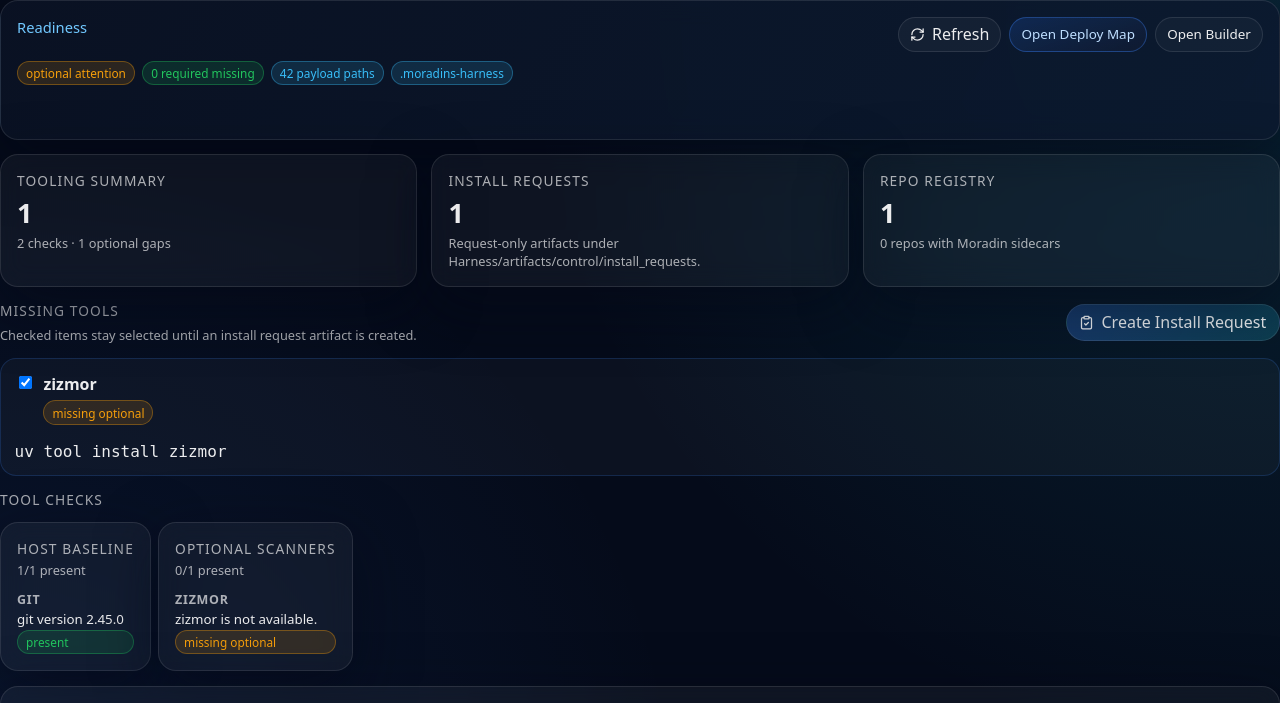
Test: readiness page › shows missing tools and writes request-only install artifacts
Expected: the text "Readiness" is shown, x1=17 y1=17 x2=87 y2=38
Expected: the text "zizmor" below "Missing Tools" is shown, x1=43 y1=373 x2=97 y2=395
Click the button "Create Install Request" at (1173, 322), box x1=1066 y1=304 x2=1279 y2=341
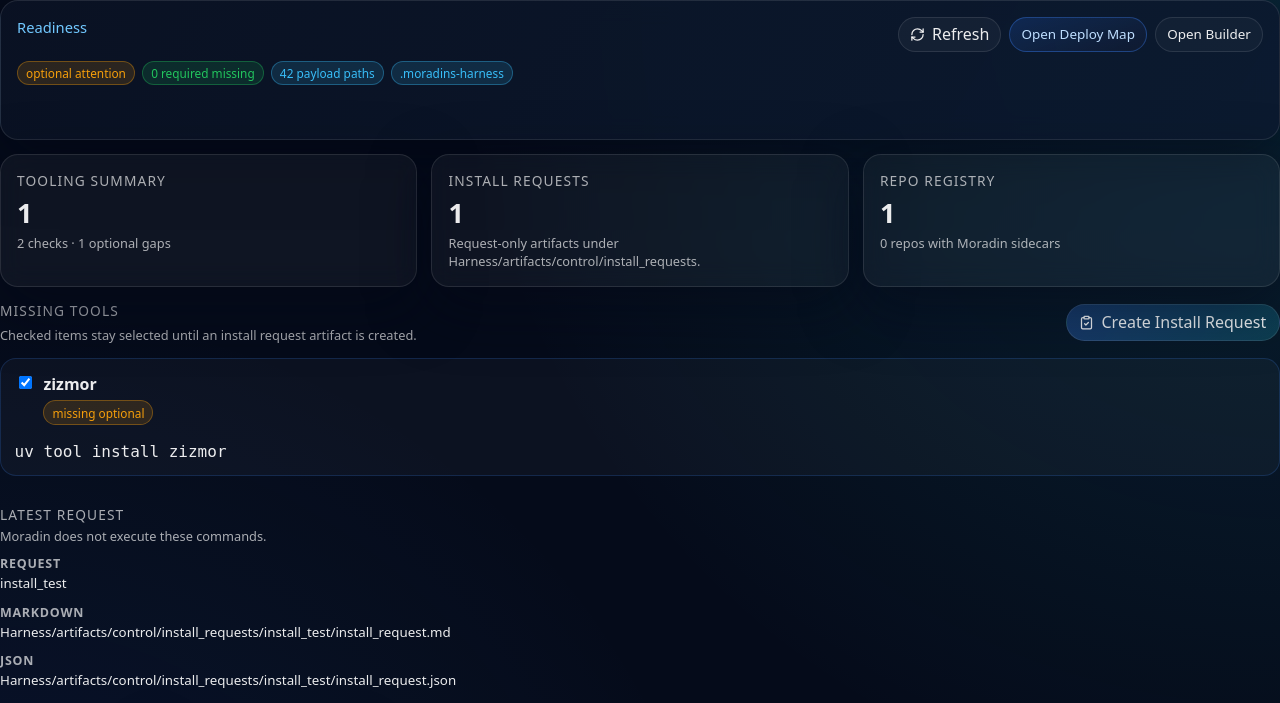
Expected: the text "install_test" is shown, x1=0 y1=574 x2=67 y2=592
